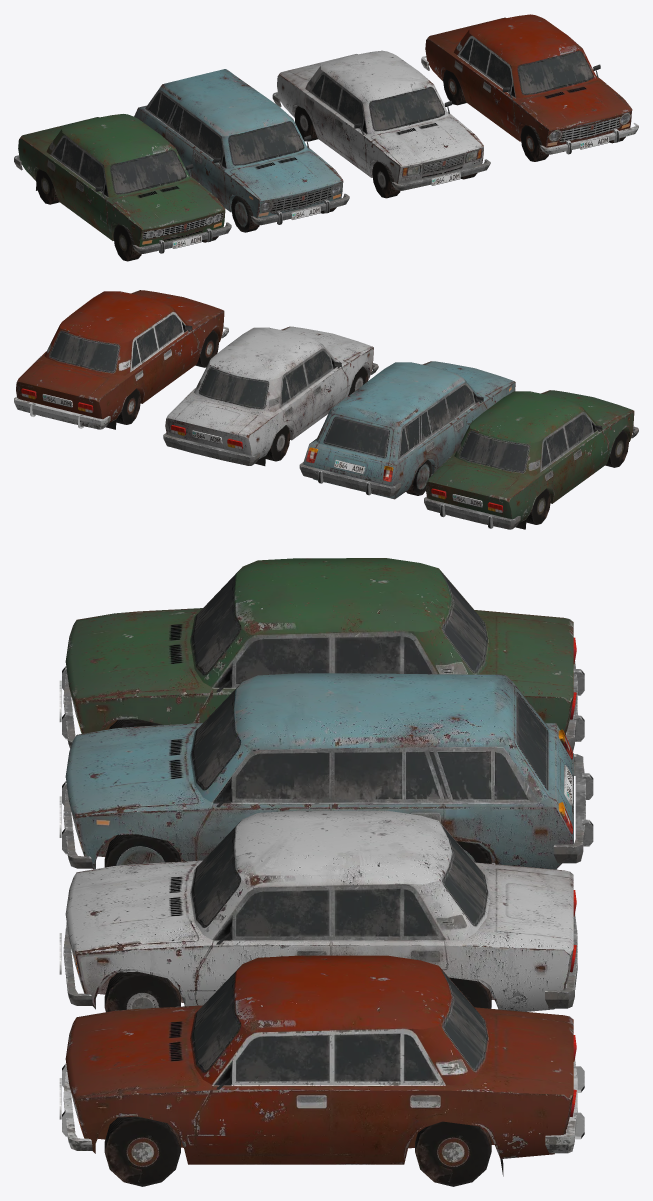
File: zhiguli.glb
3 views of the same model, one above another, from view 1: azimuth 30°, elevation 25°; view 2: azimuth 150°, elevation 25°; view 3: azimuth 270°, elevation 25° (orthographic). The views are drawn at different scales.
Parts seen in each view (by area): view 1: zhiguli_green_zhiguli_green_0, zhiguli_red_zhiguli_red_0, zhiguli_gray_zhiguli_gray_0, zhiguli_blue_zhiguli_blue_0; view 2: zhiguli_green_zhiguli_green_0, zhiguli_red_zhiguli_red_0, zhiguli_gray_zhiguli_gray_0, zhiguli_blue_zhiguli_blue_0; view 3: zhiguli_red_zhiguli_red_0, zhiguli_blue_zhiguli_blue_0, zhiguli_gray_zhiguli_gray_0, zhiguli_green_zhiguli_green_0.
Boxes of the visible parts, <box> form: zhiguli_green_zhiguli_green_0: <box>14,114,231,261</box>; zhiguli_red_zhiguli_red_0: <box>421,14,638,161</box>; zhiguli_gray_zhiguli_gray_0: <box>272,50,490,198</box>; zhiguli_blue_zhiguli_blue_0: <box>134,69,349,232</box>; zhiguli_green_zhiguli_green_0: <box>424,390,638,529</box>; zhiguli_red_zhiguli_red_0: <box>14,290,228,429</box>; zhiguli_gray_zhiguli_gray_0: <box>163,326,378,465</box>; zhiguli_blue_zhiguli_blue_0: <box>299,361,515,499</box>; zhiguli_red_zhiguli_red_0: <box>59,955,584,1186</box>; zhiguli_blue_zhiguli_blue_0: <box>59,673,593,869</box>; zhiguli_gray_zhiguli_gray_0: <box>59,810,577,1012</box>; zhiguli_green_zhiguli_green_0: <box>59,558,584,751</box>.
Bounding box in the file's own units: 9.29 × 1.43 × 4.25.
4 materials, 4 textured.
